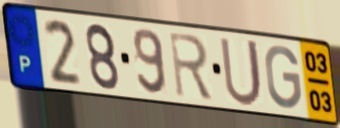2: (41, 17, 84, 85)
8: (84, 21, 121, 91)
9: (131, 27, 167, 97)
G: (263, 43, 304, 112)
R: (167, 29, 215, 102)
U: (218, 35, 265, 109)
